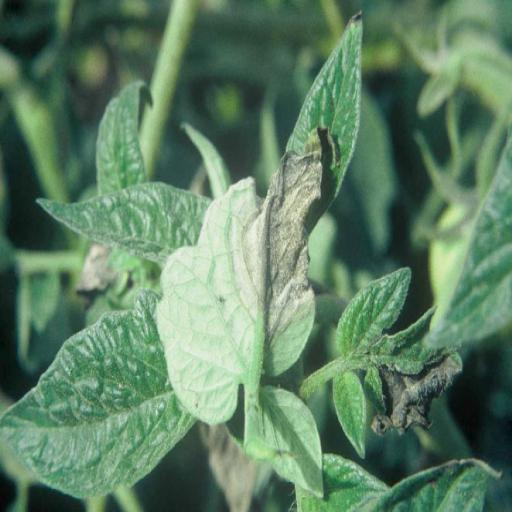disease_tomato: (154, 18, 364, 458)
